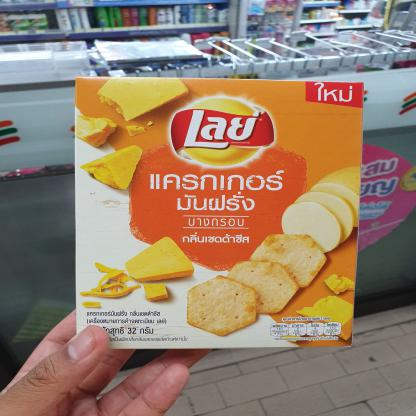potatochip: (67, 69, 371, 354)
